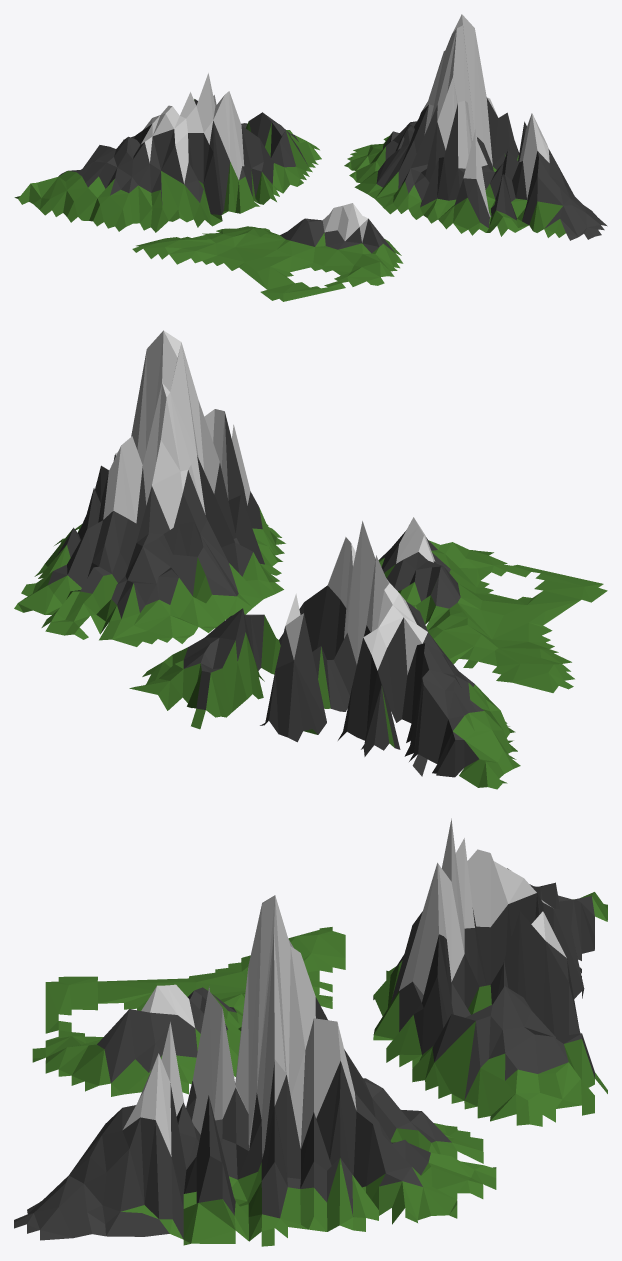
File: Mountain3.fbx
3 renders of one model, top to bottom at view 1: azimuth 30°, elevation 25°; view 2: azimuth 150°, elevation 25°; view 3: azimuth 270°, elevation 25°, orthographic. The views are drawn at different scales.
Parts seen in each view (by area): view 1: Plane.011; view 2: Plane.011; view 3: Plane.011.
Boxes of the visible parts, x1,y1,x2,y2 form: Plane.011: [14, 14, 607, 301]; Plane.011: [14, 330, 607, 789]; Plane.011: [14, 818, 607, 1246].
Bounding box in the file's own units: 1235 × 517 × 920.
